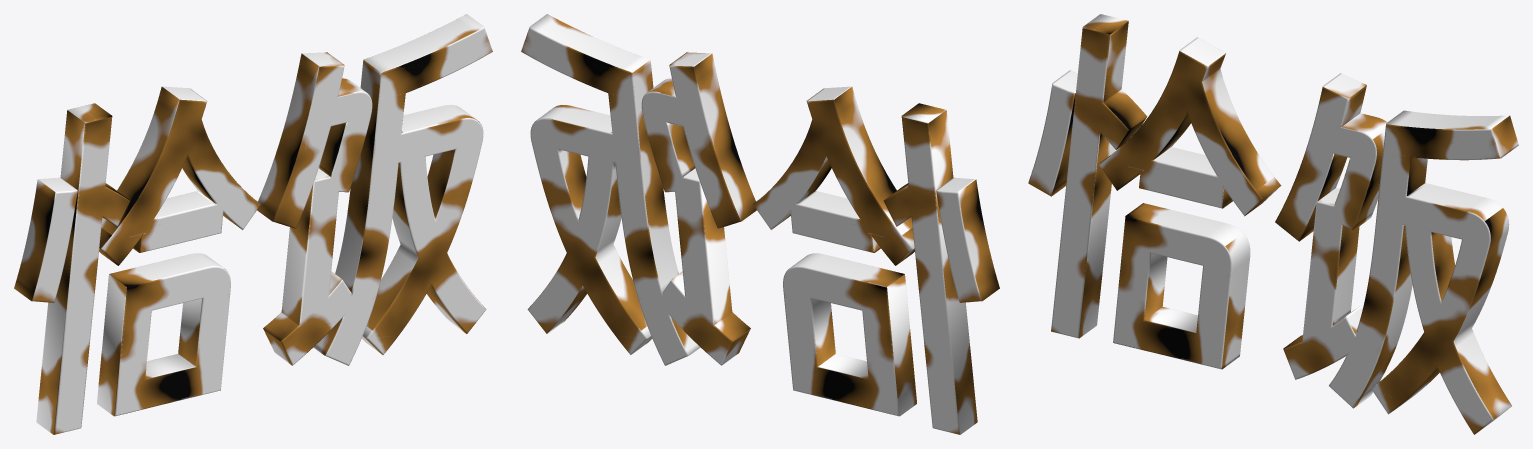
Rendered from QiaFan-dynamic.gltf.
3 renders of one model, left to right at view 1: azimuth 30°, elevation 25°; view 2: azimuth 150°, elevation 25°; view 3: azimuth 330°, elevation 25°, orthographic. The views are drawn at different scales.
Visible parts, largest first — view 1: QiaFan; view 2: QiaFan; view 3: QiaFan.
Boxes of the visible parts, left/top/right/bottom form: QiaFan: left=14, top=14, right=492, bottom=434; QiaFan: left=521, top=14, right=999, bottom=434; QiaFan: left=1028, top=14, right=1518, bottom=434.
Size of the model in its own units: 2.52 by 1.61 by 0.176.
Materials: 1 (1 with a texture image).
